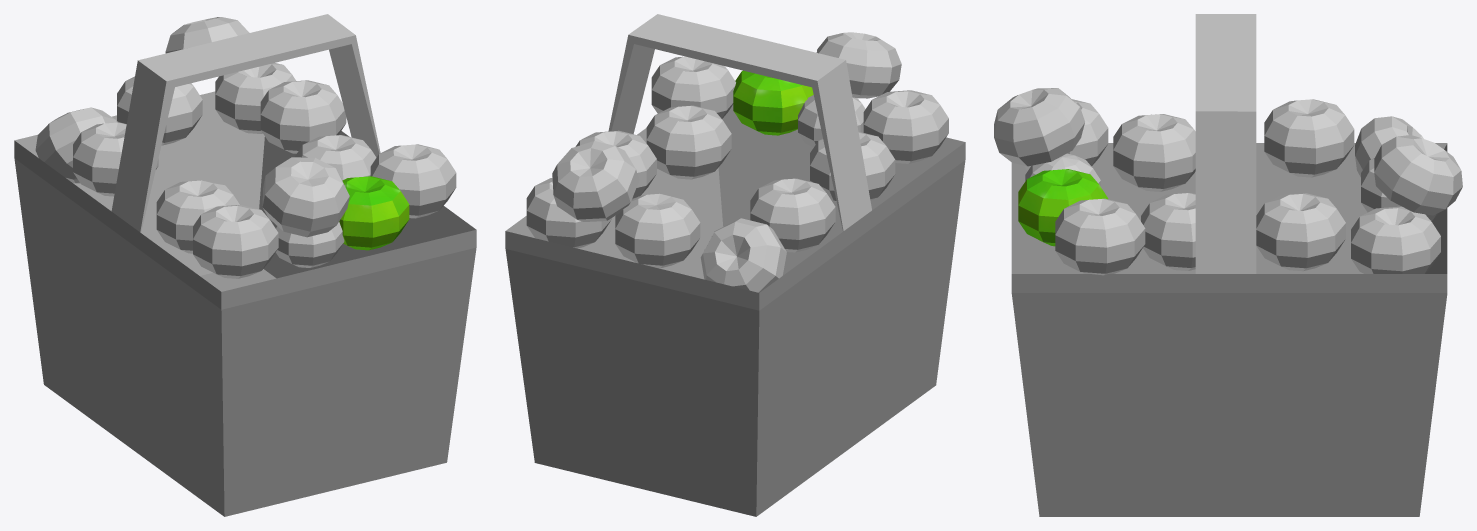
File: basket.obj
The picture shows the model from 3 angles, left to right: view 1: azimuth 30°, elevation 25°; view 2: azimuth 150°, elevation 25°; view 3: azimuth 270°, elevation 25°; orthographic projection. The views are drawn at different scales.
Visible parts, largest first — view 1: Cube, Cube.001, Sphere.008_Sphere.017, Sphere.012_Sphere.021, Sphere.005_Sphere.014, Sphere.007_Sphere.016, Sphere.004_Sphere.013, Sphere.001_Sphere.010, Sphere.011_Sphere.020, Sphere.006_Sphere.015, Sphere.010_Sphere.019, Sphere.003_Sphere.012 (+3 smaller); view 2: Cube, Cube.001, Sphere.009_Sphere.018, Sphere.002_Sphere.011, Sphere.003_Sphere.012, Sphere.010_Sphere.019, Sphere.012_Sphere.021, Sphere.006_Sphere.015, Sphere.007_Sphere.016, Sphere.004_Sphere.013, Sphere.008_Sphere.017, Sphere.011_Sphere.020 (+3 smaller); view 3: Cube, Cube.001, Sphere.006_Sphere.015, Sphere.005_Sphere.014, Sphere.007_Sphere.016, Sphere.008_Sphere.017, Sphere.001_Sphere.010, Sphere.009_Sphere.018, Sphere.011_Sphere.020, Sphere.004_Sphere.013, Sphere.003_Sphere.012, Sphere.010_Sphere.019 (+3 smaller).
Boxes of the visible parts, <box> form: Cube: <box>14,91,476,516</box>; Cube.001: <box>111,14,380,232</box>; Sphere.008_Sphere.017: <box>262,157,349,237</box>; Sphere.012_Sphere.021: <box>193,204,278,278</box>; Sphere.005_Sphere.014: <box>260,80,346,153</box>; Sphere.007_Sphere.016: <box>370,144,456,218</box>; Sphere.004_Sphere.013: <box>339,176,409,250</box>; Sphere.001_Sphere.010: <box>156,180,239,253</box>; Sphere.011_Sphere.020: <box>215,63,295,133</box>; Sphere.006_Sphere.015: <box>73,122,158,196</box>; Sphere.010_Sphere.019: <box>35,107,116,183</box>; Sphere.003_Sphere.012: <box>295,135,376,180</box>; Cube: <box>505,104,965,516</box>; Cube.001: <box>608,14,871,231</box>; Sphere.009_Sphere.018: <box>552,141,639,221</box>; Sphere.002_Sphere.011: <box>615,193,700,268</box>; Sphere.003_Sphere.012: <box>646,105,731,179</box>; Sphere.010_Sphere.019: <box>700,218,786,292</box>; Sphere.012_Sphere.021: <box>863,90,948,163</box>; Sphere.006_Sphere.015: <box>750,178,835,252</box>; Sphere.007_Sphere.016: <box>651,56,735,118</box>; Sphere.004_Sphere.013: <box>733,70,813,135</box>; Sphere.008_Sphere.017: <box>816,32,901,98</box>; Sphere.011_Sphere.020: <box>526,178,611,248</box>; Cube: <box>1011,143,1447,516</box>; Cube.001: <box>1195,14,1256,273</box>; Sphere.006_Sphere.015: <box>1264,99,1354,177</box>; Sphere.005_Sphere.014: <box>1256,193,1345,271</box>; Sphere.007_Sphere.016: <box>1055,198,1145,275</box>; Sphere.008_Sphere.017: <box>994,88,1084,166</box>; Sphere.001_Sphere.010: <box>1113,114,1195,191</box>; Sphere.009_Sphere.018: <box>1374,135,1462,215</box>; Sphere.011_Sphere.020: <box>1351,206,1440,273</box>; Sphere.004_Sphere.013: <box>1018,169,1108,246</box>; Sphere.003_Sphere.012: <box>1141,193,1195,270</box>; Sphere.010_Sphere.019: <box>1355,116,1423,177</box>.
Bounding box in the file's own units: 11 × 14.49 × 15.51.
